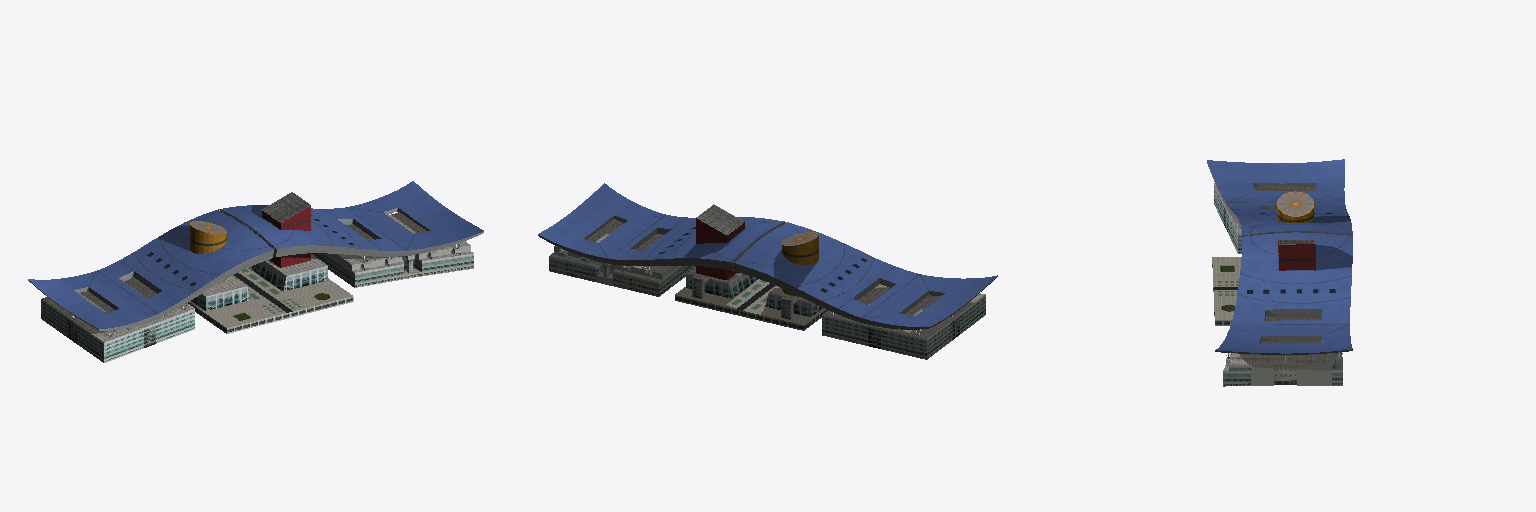
3 renders of one model, left to right at view 1: azimuth 30°, elevation 25°; view 2: azimuth 150°, elevation 25°; view 3: azimuth 270°, elevation 25°, orthographic.
Visible parts, largest first — view 1: ������ͼ; view 2: ������ͼ; view 3: ������ͼ.
Boxes of the visible parts, x1,y1,x2,y2 form: ������ͼ: [28, 181, 483, 362]; ������ͼ: [538, 183, 997, 359]; ������ͼ: [1207, 159, 1352, 386].
Bounding box in the file's own units: 484 × 89.89 × 157.
Materials: 3 (3 with a texture image).